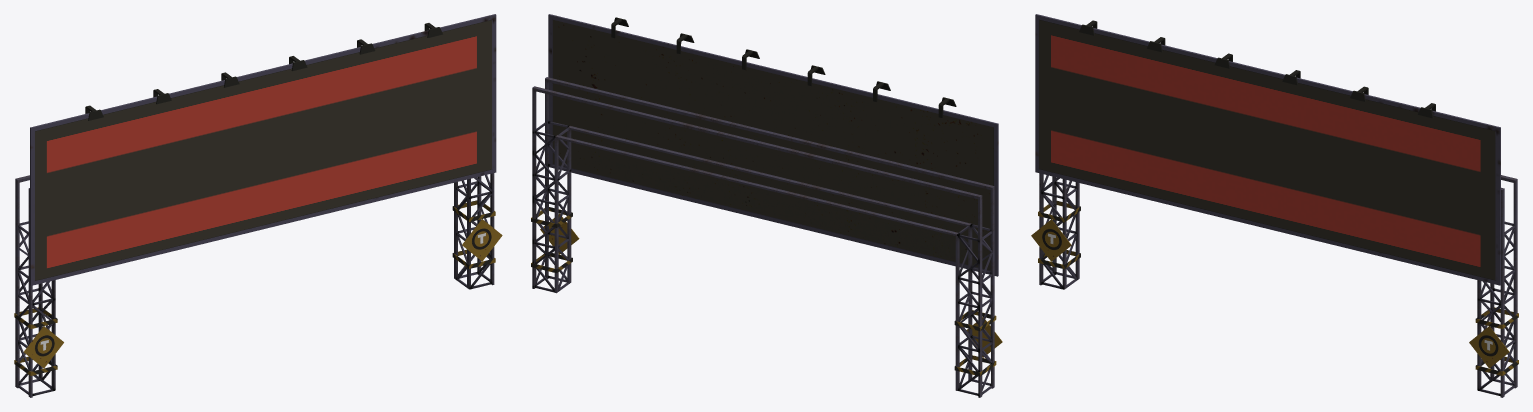
Rendered from Checkpointboard_06.fbx.
3 views of the same model, side by side, from view 1: azimuth 30°, elevation 25°; view 2: azimuth 150°, elevation 25°; view 3: azimuth 330°, elevation 25° (orthographic). The views are drawn at different scales.
Visible parts, largest first — view 1: Checkpointboard_06; view 2: Checkpointboard_06; view 3: Checkpointboard_06.
Boxes of the visible parts, x1=… form: Checkpointboard_06: x1=14, y1=14, x2=502, y2=397; Checkpointboard_06: x1=531, y1=14, x2=1002, y2=397; Checkpointboard_06: x1=1031, y1=14, x2=1518, y2=397.
Size of the model in its own units: 2.04 by 1.13 by 0.1842.
